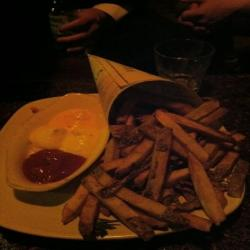fries: (101, 100, 245, 233)
ketchup: (18, 145, 90, 189)
